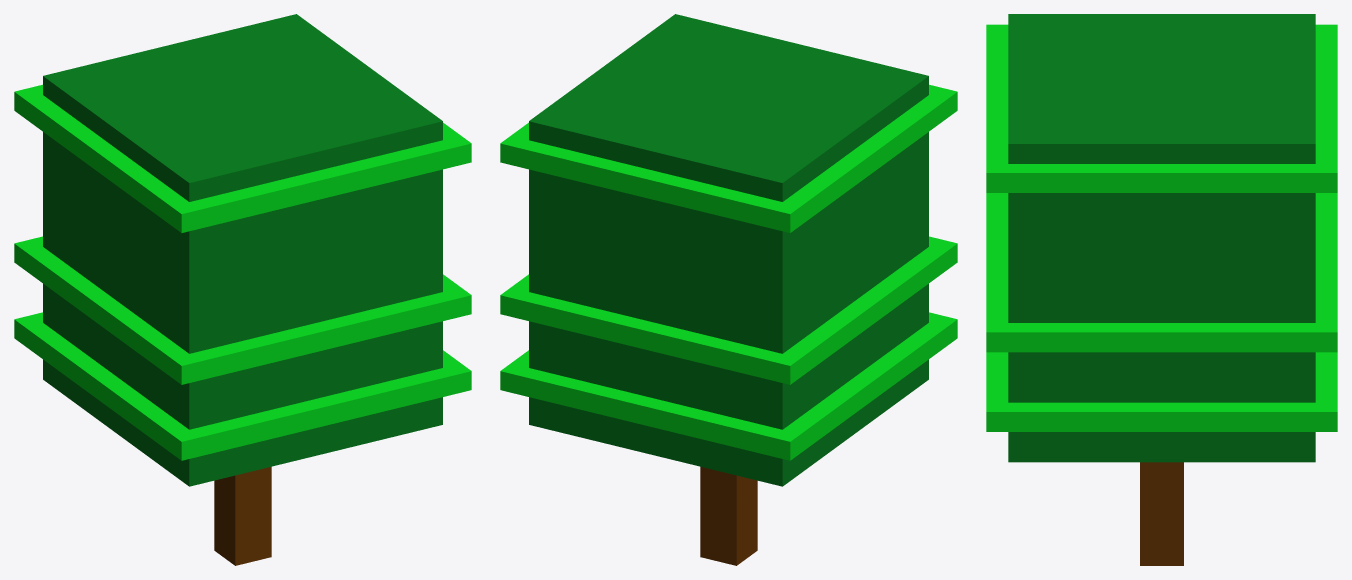
File: Arvore2.obj
The picture shows the model from 3 angles, left to right: view 1: azimuth 30°, elevation 25°; view 2: azimuth 150°, elevation 25°; view 3: azimuth 270°, elevation 25°; orthographic projection. The views are drawn at different scales.
Visible parts, largest first — view 1: Arvore2; view 2: Arvore2; view 3: Arvore2.
Part boxes in pixels (left/top/right/bottom): Arvore2: left=14, top=14, right=471, bottom=565; Arvore2: left=500, top=14, right=957, bottom=565; Arvore2: left=986, top=14, right=1337, bottom=565.
Bounding box in the file's own units: 16 × 24 × 16.
Materials: 1 (1 with a texture image).
